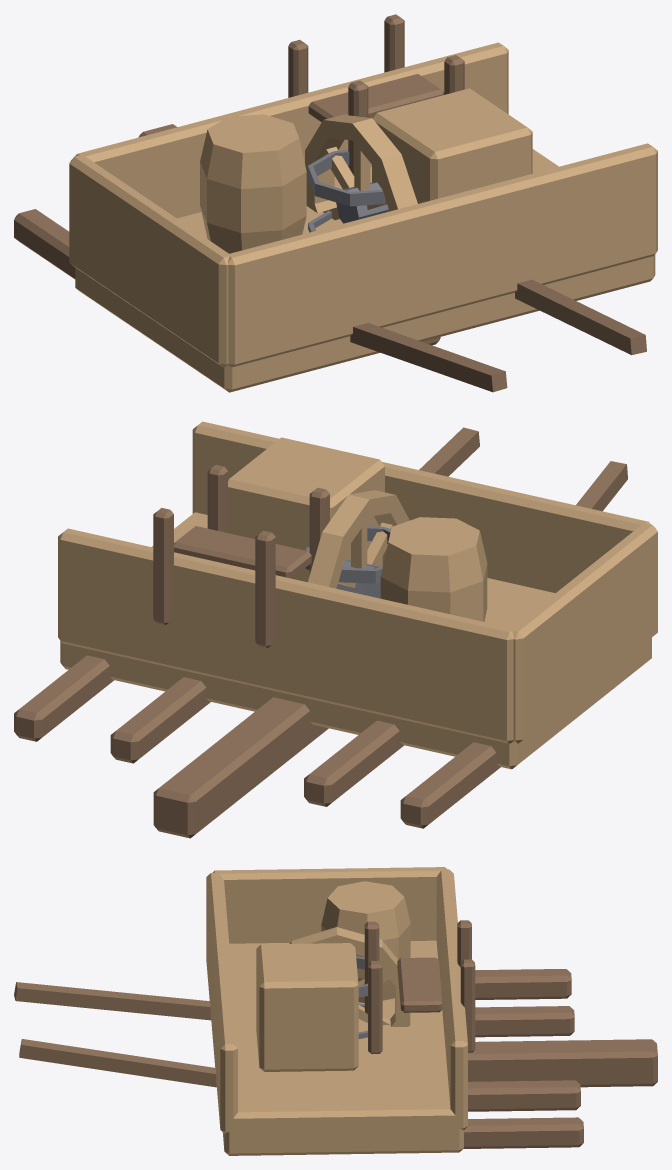
File: town_cargo_cart.glb
3 views of the same model, one above another, from view 1: azimuth 30°, elevation 25°; view 2: azimuth 150°, elevation 25°; view 3: azimuth 270°, elevation 25° (orthographic). The views are drawn at different scales.
Parts seen in each view (by area): view 1: world; view 2: world; view 3: world.
Boxes of the visible parts, x1,y1,x2,y2 form: world: (14, 14, 657, 392); world: (14, 421, 657, 838); world: (14, 867, 657, 1155).
Size of the model in its own units: 1.33 by 0.5767 by 2.
